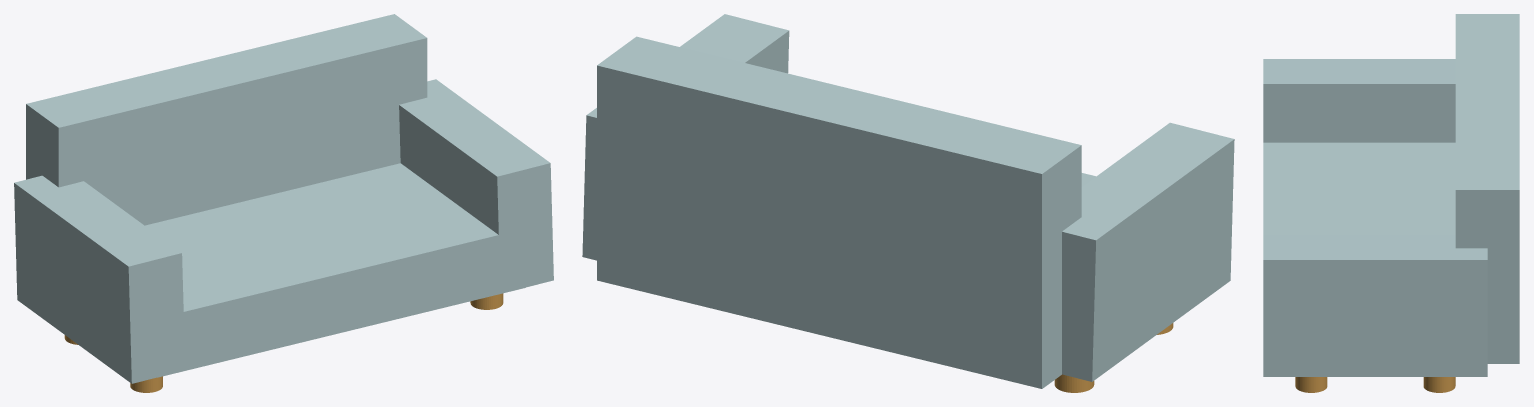
Rendered from Ingenious Bojo-Kieran.glb.
The picture shows the model from 3 angles, left to right: view 1: azimuth 30°, elevation 25°; view 2: azimuth 150°, elevation 25°; view 3: azimuth 270°, elevation 25°; orthographic projection. The views are drawn at different scales.
Parts seen in each view (by area): view 1: Mesh_Mesh_head_geo.001_lambert2SG.001; view 2: Mesh_Mesh_head_geo.001_lambert2SG.001; view 3: Mesh_Mesh_head_geo.001_lambert2SG.001.
Part boxes in pixels (<box>): Mesh_Mesh_head_geo.001_lambert2SG.001: <box>14,14,553,392</box>; Mesh_Mesh_head_geo.001_lambert2SG.001: <box>582,14,1234,392</box>; Mesh_Mesh_head_geo.001_lambert2SG.001: <box>1263,14,1519,392</box>.
Size of the model in its own units: 0.015 by 0.007 by 0.008.
